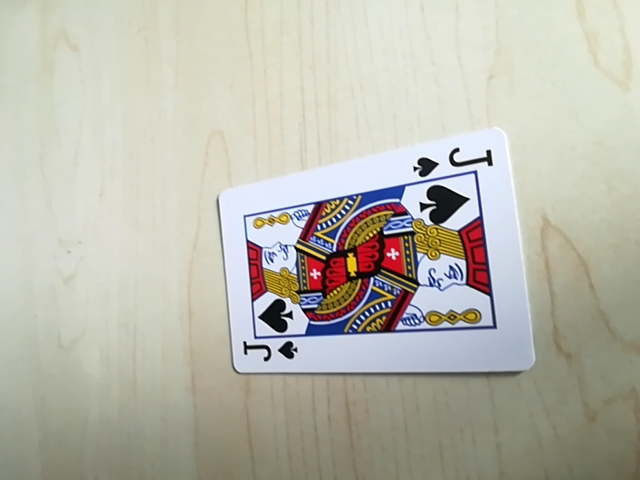ht j: (409, 144, 501, 182), (237, 331, 300, 369)
